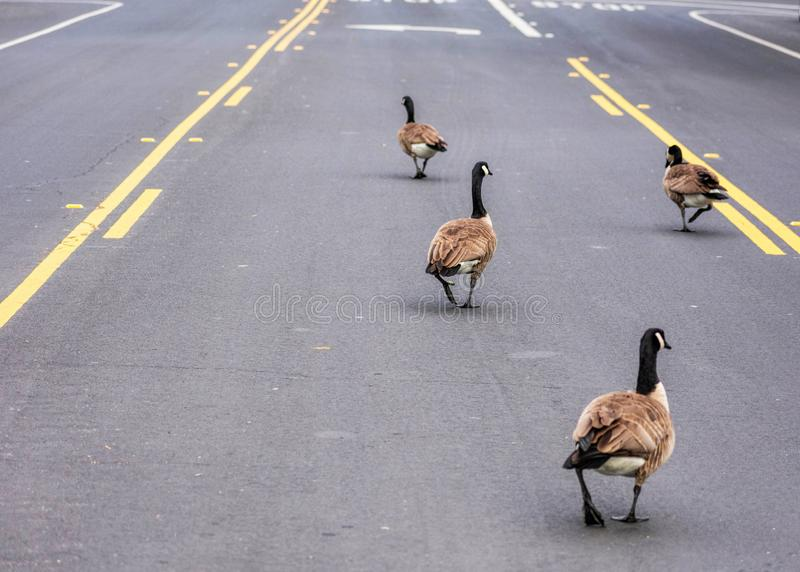goose: (560, 321, 677, 538), (421, 157, 501, 313), (655, 141, 732, 236), (397, 94, 449, 183)
